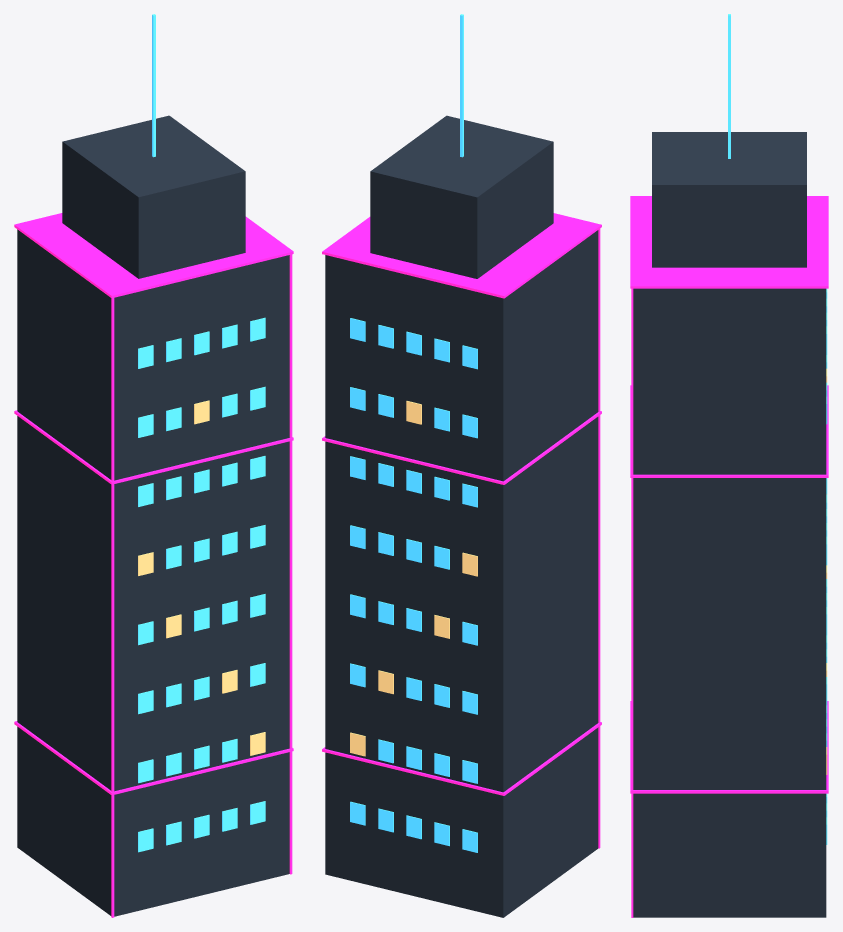
Rendered from skyline_cyan.glb.
3 views of the same model, side by side, from view 1: azimuth 30°, elevation 25°; view 2: azimuth 150°, elevation 25°; view 3: azimuth 270°, elevation 25° (orthographic).
Visible parts, largest first — view 1: Skyline; view 2: Skyline; view 3: Skyline.
Boxes of the visible parts, x1=… form: Skyline: x1=14, y1=14, x2=293, y2=917; Skyline: x1=322, y1=14, x2=601, y2=917; Skyline: x1=630, y1=14, x2=828, y2=917.
Size of the model in its own units: 5.52 by 24.5 by 5.12.
